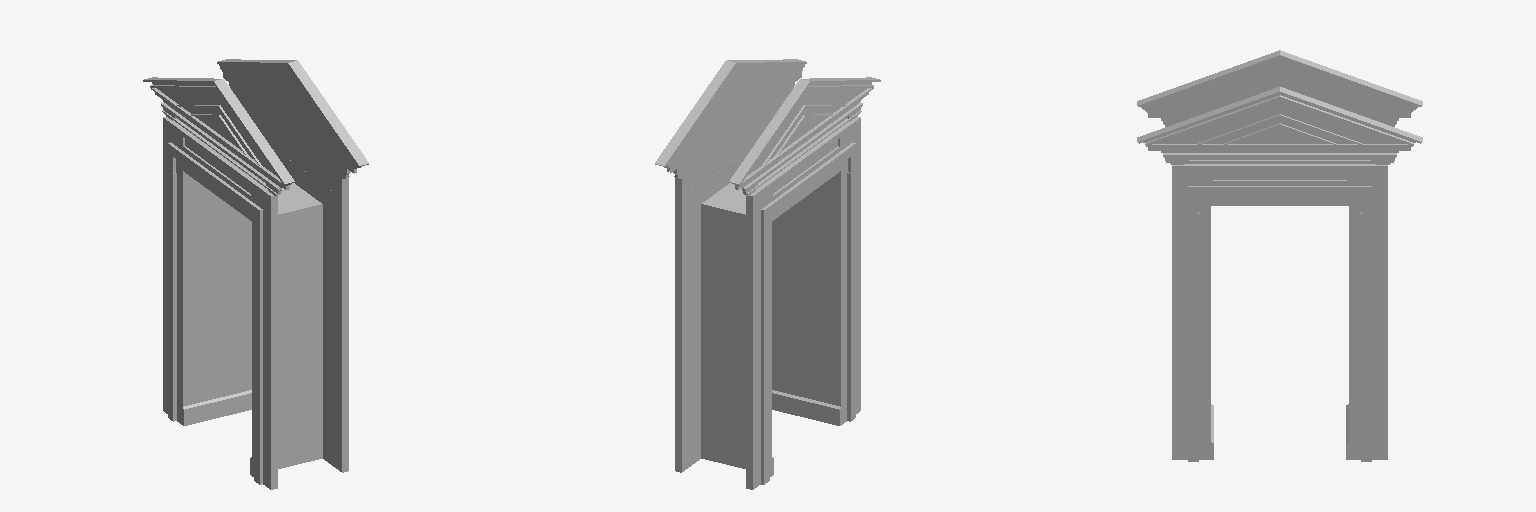
Rendered from Door.obj.
The picture shows the model from 3 angles: view 1: azimuth 30°, elevation 25°; view 2: azimuth 150°, elevation 25°; view 3: azimuth 270°, elevation 25°; orthographic projection.
Parts seen in each view (by area): view 1: portal008, Object001; view 2: portal008, Object001; view 3: portal008, Object001.
Part boxes in pixels (x1,y1,x2,y2): portal008: (189,59,368,472); Object001: (143,77,294,489); portal008: (655,59,834,472); Object001: (729,77,880,489); portal008: (1137,87,1422,461); Object001: (1137,50,1422,408).
Bounding box in the file's own units: 1.25 × 5.22 × 3.64.